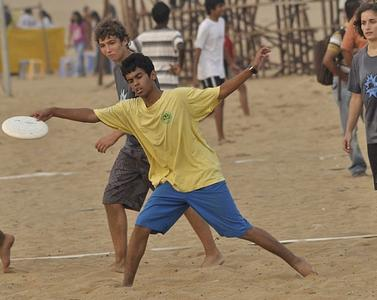person: (32, 46, 324, 287)
